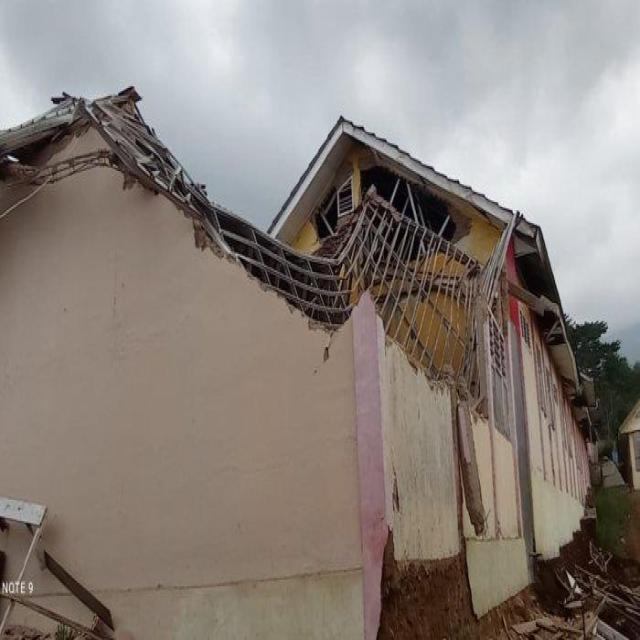damage: (142, 49, 556, 428), (503, 526, 640, 640)
